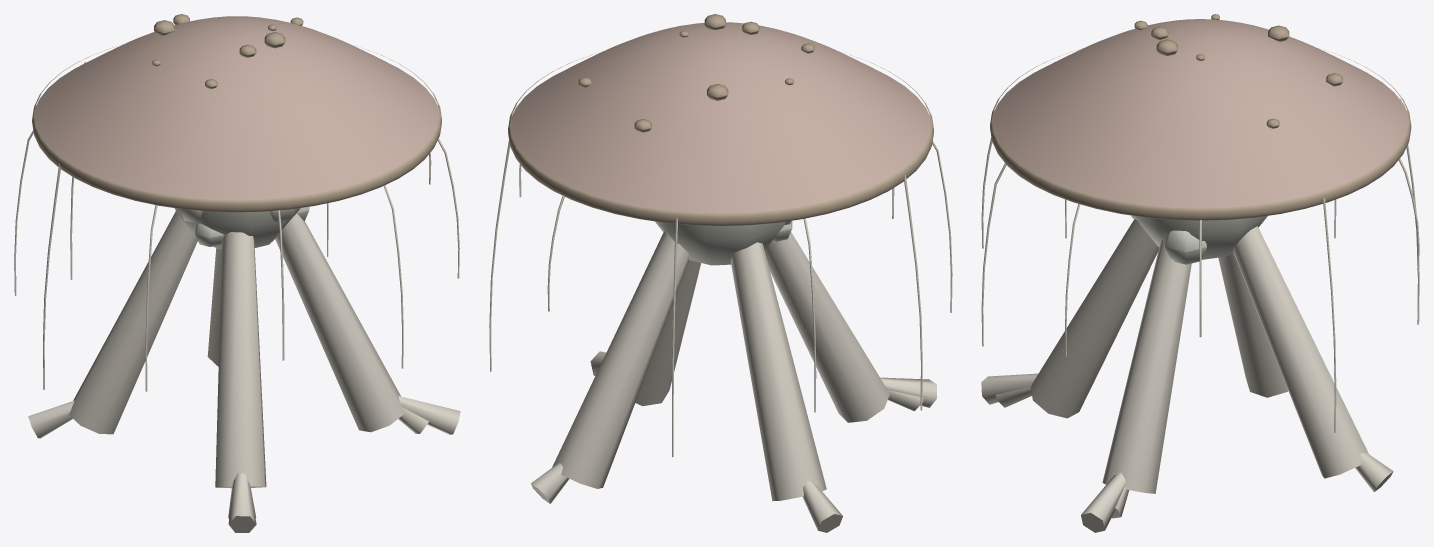
The model's file is mushroom-rooted.glb.
3 renders of one model, left to right at view 1: azimuth 30°, elevation 25°; view 2: azimuth 150°, elevation 25°; view 3: azimuth 270°, elevation 25°, orthographic. The views are drawn at different scales.
Parts seen in each view (by area): view 1: mushroom-rooted-cap, mushroom-rooted; view 2: mushroom-rooted-cap, mushroom-rooted; view 3: mushroom-rooted-cap, mushroom-rooted.
Boxes of the visible parts, x1,y1,x2,y2 form: mushroom-rooted-cap: [32, 14, 441, 212]; mushroom-rooted: [14, 62, 460, 532]; mushroom-rooted-cap: [508, 14, 933, 225]; mushroom-rooted: [489, 139, 952, 532]; mushroom-rooted-cap: [990, 14, 1411, 220]; mushroom-rooted: [981, 98, 1419, 532].
Size of the model in its own units: 7.02 by 7.09 by 6.68.
